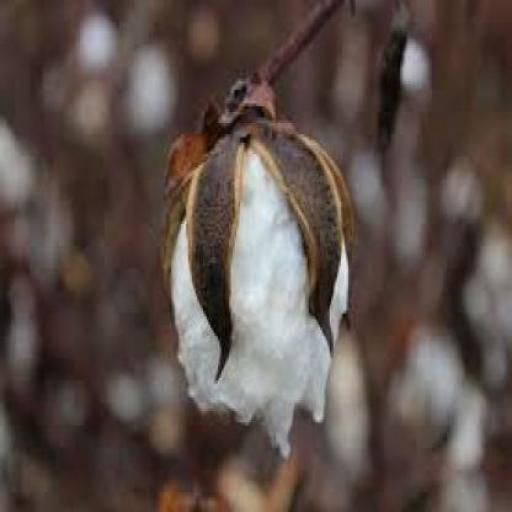cotton_ready: (106, 95, 359, 428)
